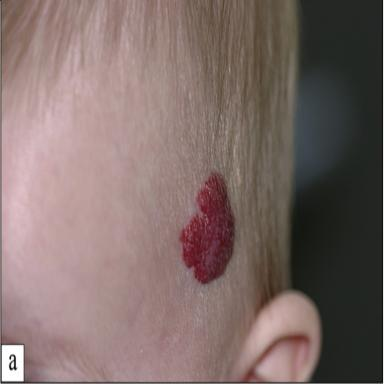Hemangiome: (180, 172, 235, 282)
